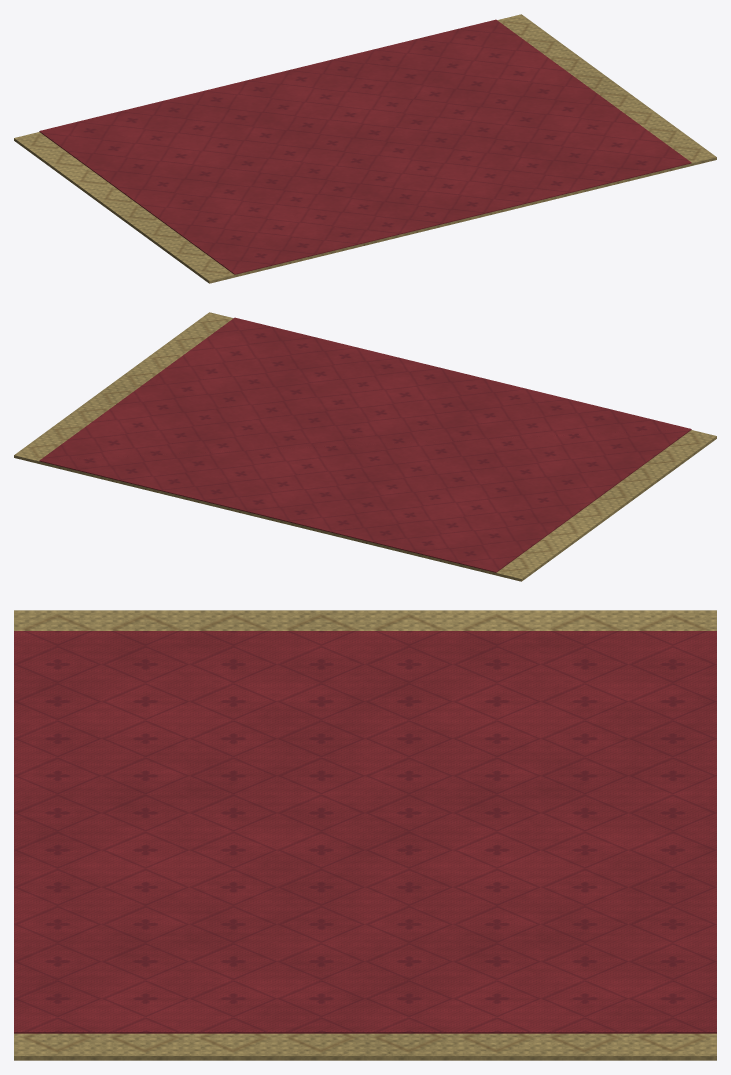
File: PRP_Alfombra.fbx
The picture shows the model from 3 angles, top to bottom: view 1: azimuth 30°, elevation 25°; view 2: azimuth 150°, elevation 25°; view 3: azimuth 270°, elevation 25°; orthographic projection. The views are drawn at different scales.
Visible parts, largest first — view 1: PRP_Alfombra; view 2: PRP_Alfombra; view 3: PRP_Alfombra.
Boxes of the visible parts, x1,y1,x2,y2 form: PRP_Alfombra: [14, 14, 716, 283]; PRP_Alfombra: [14, 312, 716, 581]; PRP_Alfombra: [14, 610, 716, 1060].
Bounding box in the file's own units: 3 × 0.02 × 2.
